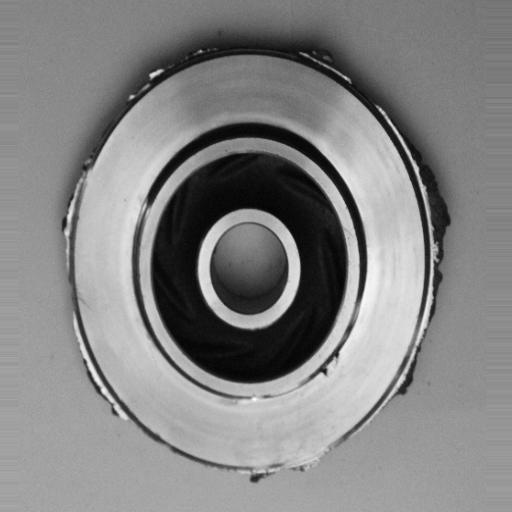casting_with_burr: (53, 41, 451, 487)
crack: (307, 344, 356, 390)
scratch: (225, 382, 293, 413), (129, 194, 159, 251)
